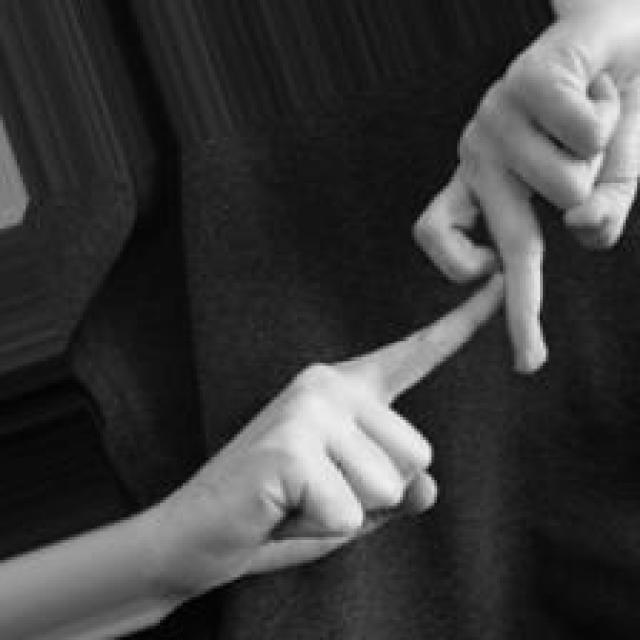R: (160, 9, 640, 597)
